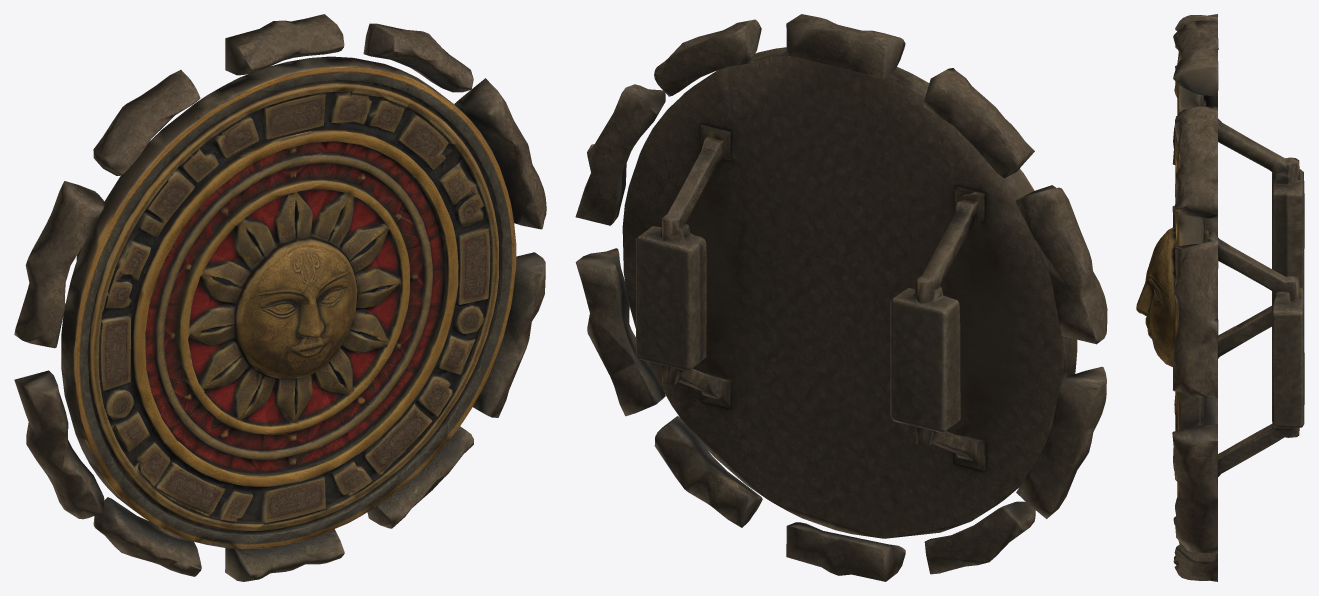
Rendered from sundisc.glb.
3 renders of one model, left to right at view 1: azimuth 30°, elevation 25°; view 2: azimuth 150°, elevation 25°; view 3: azimuth 270°, elevation 25°, orthographic. The views are drawn at different scales.
Bounding box in the file's own units: 1.9 × 1.89 × 0.5557.
Materials: 1 (1 with a texture image).
